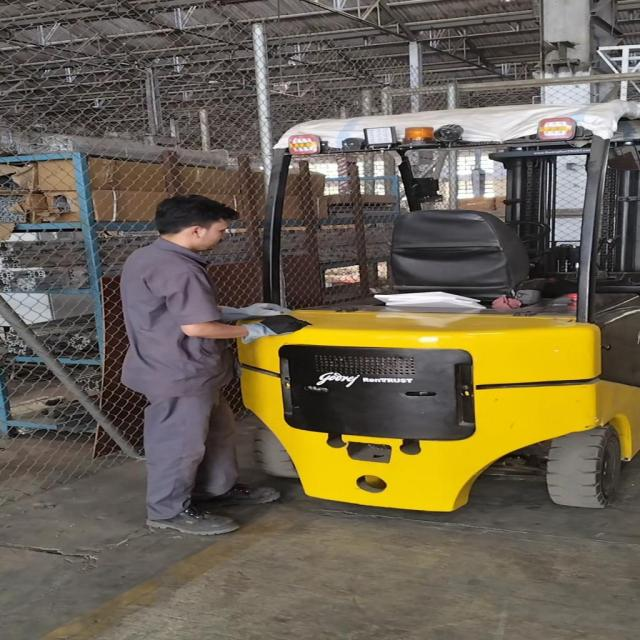Gloves-Detection: (222, 307, 300, 343)
